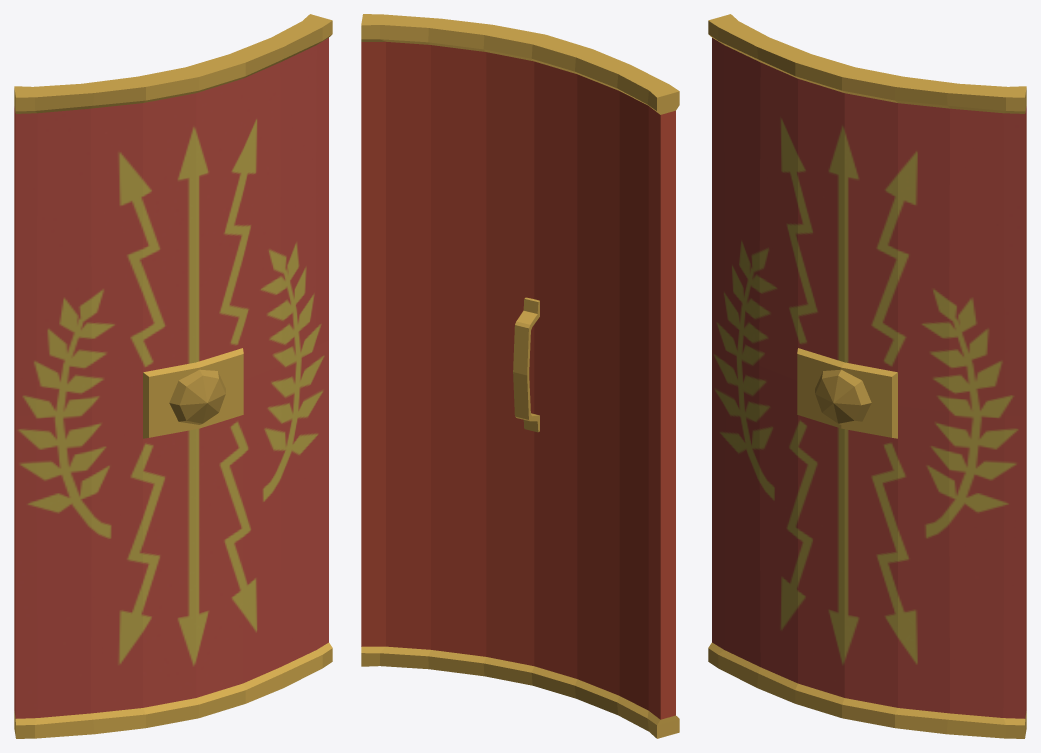
File: SM_pwe_rome_shield_05c.fbx
3 renders of one model, left to right at view 1: azimuth 30°, elevation 25°; view 2: azimuth 150°, elevation 25°; view 3: azimuth 330°, elevation 25°, orthographic.
Visible parts, largest first — view 1: SM_pwe_rome_shield_05c; view 2: SM_pwe_rome_shield_05c; view 3: SM_pwe_rome_shield_05c.
Boxes of the visible parts, <box> form: SM_pwe_rome_shield_05c: <box>14,14,332,738</box>; SM_pwe_rome_shield_05c: <box>361,14,679,738</box>; SM_pwe_rome_shield_05c: <box>708,14,1026,738</box>.
Bounding box in the file's own units: 60.8 × 118 × 15.07.
